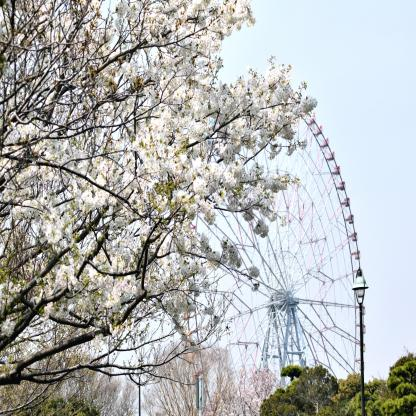OshimaSakura: (0, 1, 322, 385), (126, 334, 238, 416), (234, 361, 280, 416)
